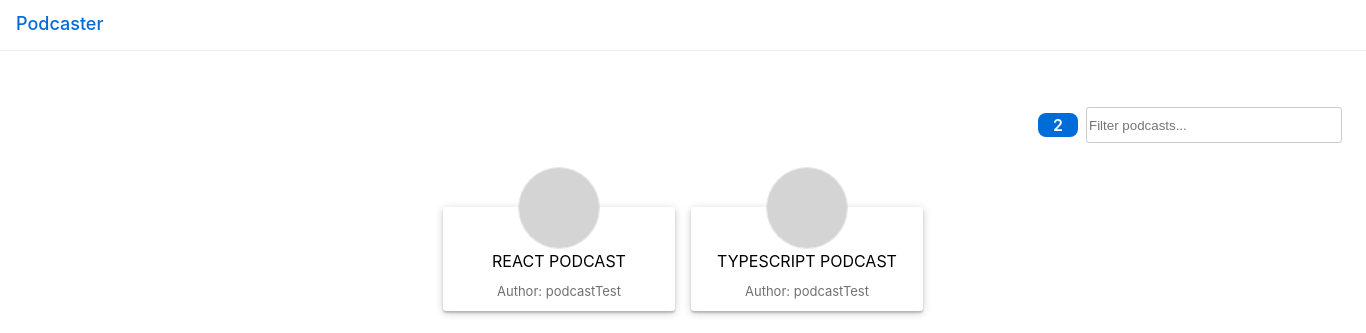
Home Component › should filter podcasts based on the search text
This screenshot has width=1366, height=333.
Step 1. Type "React" into the field with placeholder "Filter podcasts..." → (1214, 125), box [1086,107,1342,143]
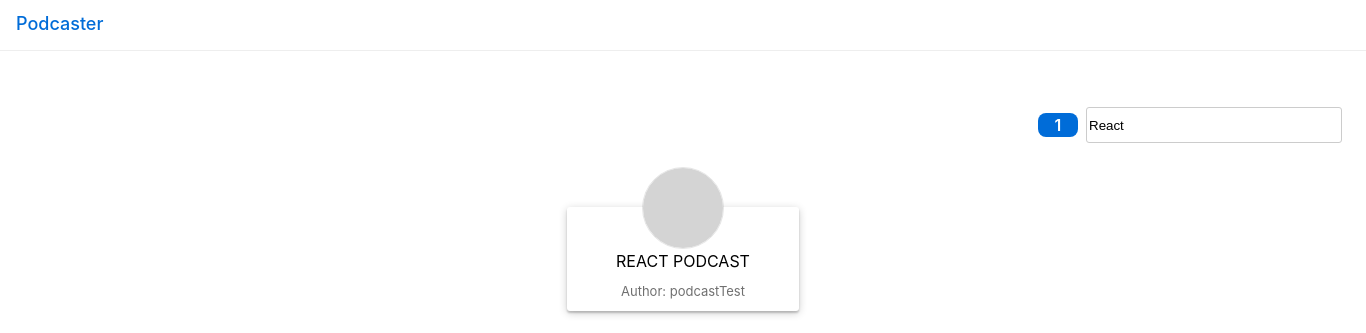
Expected: the text "REACT PODCAST" is shown, [616,251,750,271]
Now the link "TYPESCRIPT PODCAST" is gone
